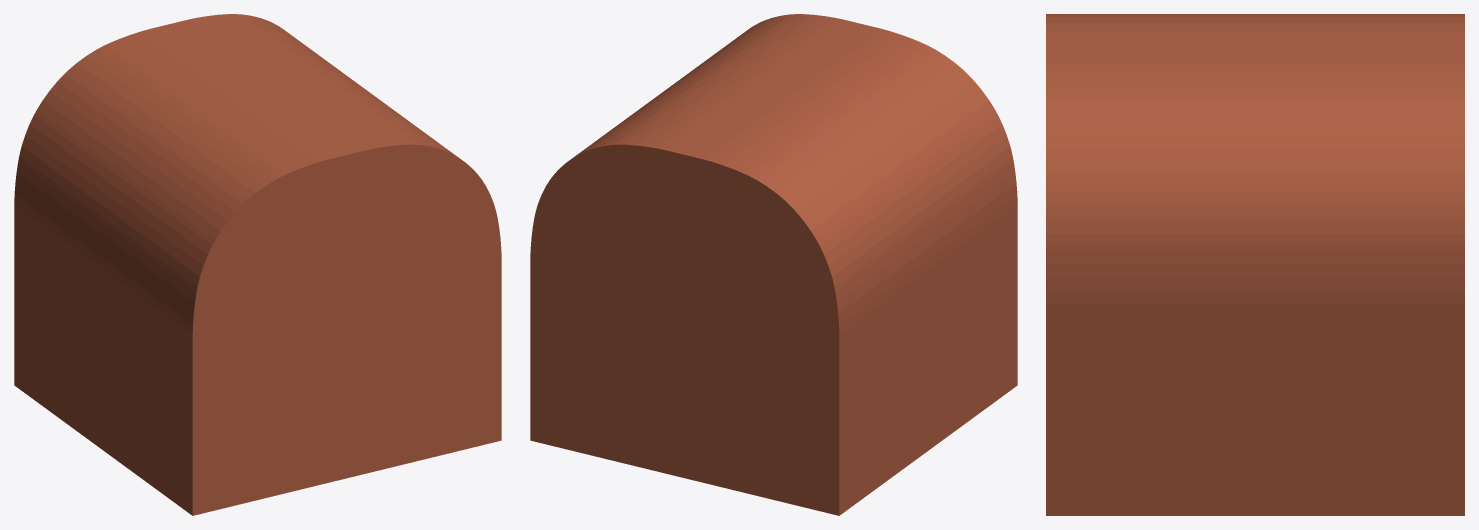
3 views of the same model, side by side, from view 1: azimuth 30°, elevation 25°; view 2: azimuth 150°, elevation 25°; view 3: azimuth 270°, elevation 25° (orthographic). The views are drawn at different scales.
Parts seen in each view (by area): view 1: Cube.004; view 2: Cube.004; view 3: Cube.004.
Boxes of the visible parts, left/top/right/bottom form: Cube.004: left=14, top=14, right=501, bottom=515; Cube.004: left=530, top=14, right=1017, bottom=515; Cube.004: left=1046, top=14, right=1464, bottom=515.
Bounding box in the file's own units: 100 × 100 × 100.
